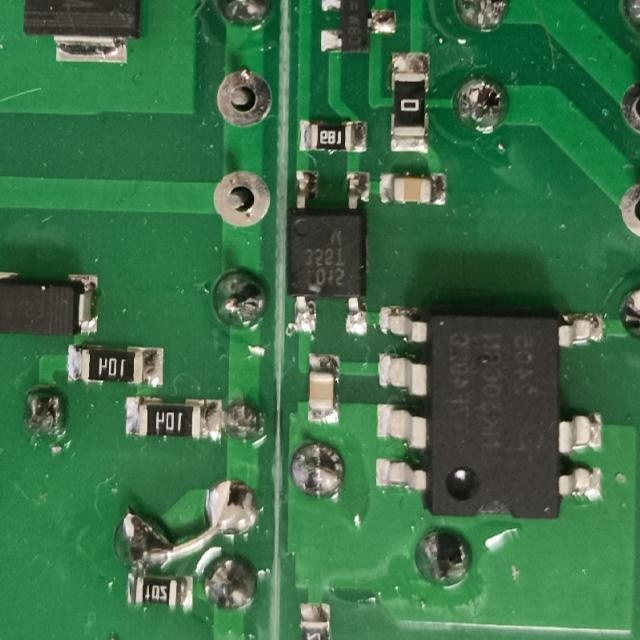chip-capacitor: (376, 173, 448, 209), (307, 353, 337, 424)
chip-resistor: (120, 396, 223, 443), (64, 342, 165, 389), (388, 50, 429, 158), (123, 573, 196, 611), (297, 117, 368, 156), (295, 602, 333, 640)
diode: (0, 267, 98, 340)
ic: (373, 305, 604, 522), (283, 168, 368, 343)
transistor: (317, 0, 397, 59)
